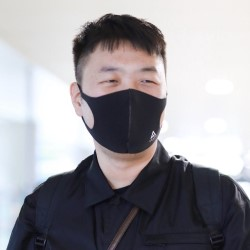mask: (78, 84, 170, 157)
